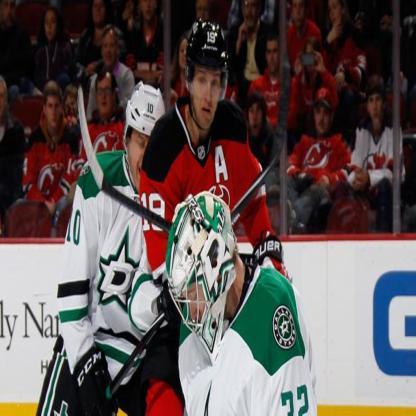face: (130, 130, 160, 192), (193, 69, 221, 129), (183, 285, 221, 328), (97, 74, 114, 113), (46, 98, 62, 127), (369, 94, 384, 124), (103, 32, 117, 64), (250, 105, 264, 136), (315, 109, 331, 135), (267, 42, 280, 73), (179, 41, 191, 69), (330, 4, 344, 27), (2, 2, 16, 25), (46, 13, 57, 42), (244, 2, 256, 27), (93, 1, 106, 24), (66, 96, 78, 119), (197, 4, 210, 25), (141, 1, 156, 19), (307, 47, 317, 72), (2, 81, 8, 120), (293, 4, 305, 23), (369, 71, 380, 89)
